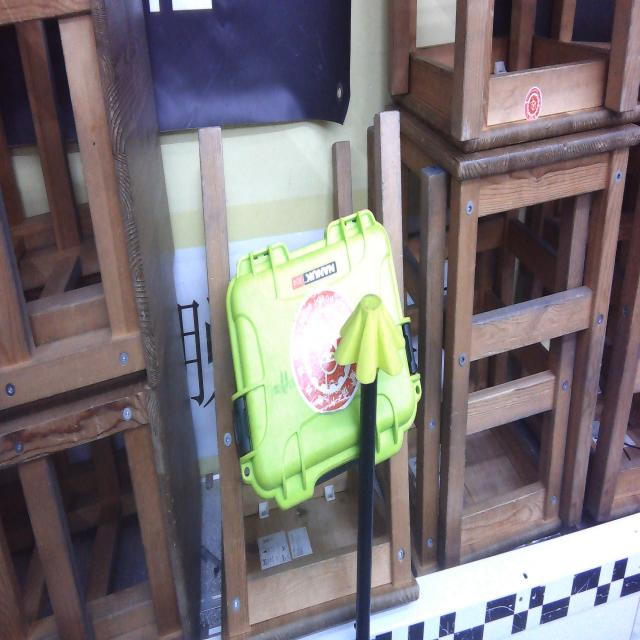Yellow-Stake-Head: (334, 294, 406, 384)
